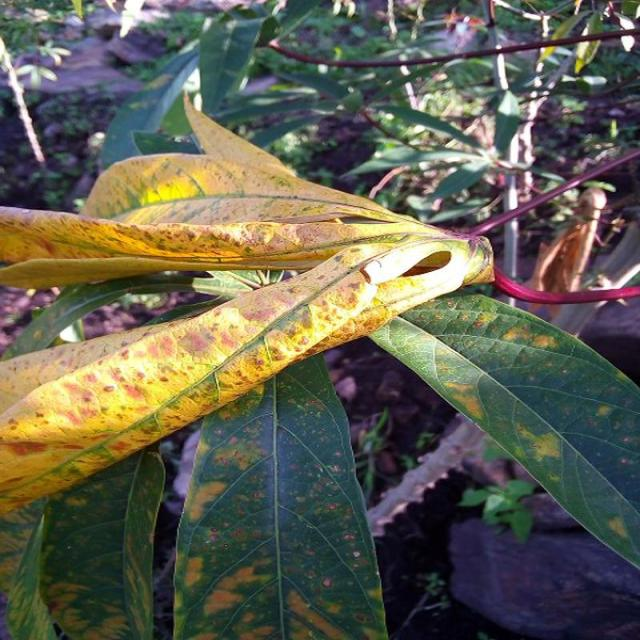cassava leaf: (0, 92, 638, 632), (366, 289, 640, 571), (171, 349, 389, 638)
